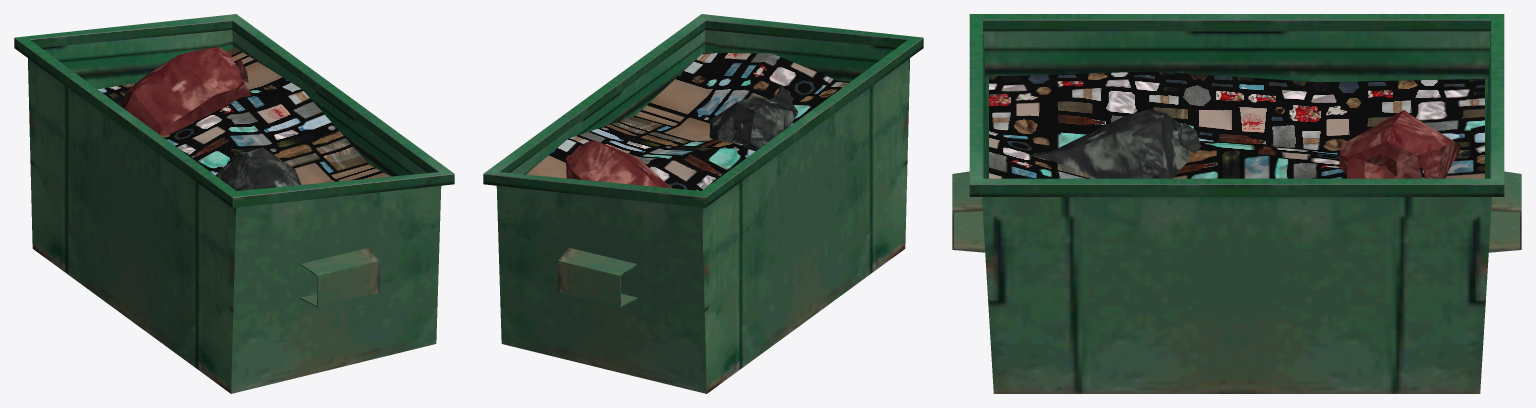
File: Urban_DumpsterDiagonalFullNoLid_Model.fbx
The picture shows the model from 3 angles, left to right: view 1: azimuth 30°, elevation 25°; view 2: azimuth 150°, elevation 25°; view 3: azimuth 270°, elevation 25°; orthographic projection. The views are drawn at different scales.
Parts seen in each view (by area): view 1: Urban_DumpsterDiagonalFullNoLid_Mesh; view 2: Urban_DumpsterDiagonalFullNoLid_Mesh; view 3: Urban_DumpsterDiagonalFullNoLid_Mesh.
Boxes of the visible parts, x1=… form: Urban_DumpsterDiagonalFullNoLid_Mesh: x1=14, y1=14, x2=454, y2=393; Urban_DumpsterDiagonalFullNoLid_Mesh: x1=483, y1=14, x2=923, y2=393; Urban_DumpsterDiagonalFullNoLid_Mesh: x1=952, y1=14, x2=1521, y2=393.
Bounding box in the file's own units: 2.03 × 1.8 × 3.67.
